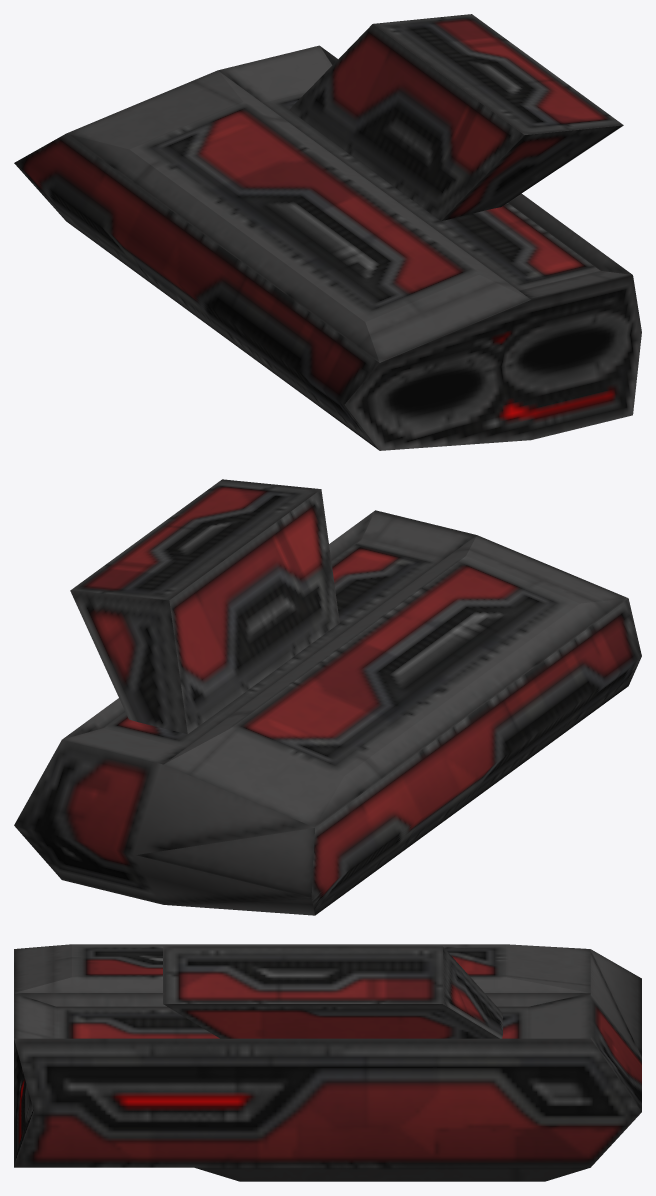
Rendered from BFP_TorpedoBay_LowerRight.FBX.
3 renders of one model, top to bottom at view 1: azimuth 30°, elevation 25°; view 2: azimuth 150°, elevation 25°; view 3: azimuth 270°, elevation 25°, orthographic. The views are drawn at different scales.
Visible parts, largest first — view 1: BFP_TorpedoBay_LowerRight; view 2: BFP_TorpedoBay_LowerRight; view 3: BFP_TorpedoBay_LowerRight.
Boxes of the visible parts, x1,y1,x2,y2 form: BFP_TorpedoBay_LowerRight: (14,14,641,450); BFP_TorpedoBay_LowerRight: (14,479,641,915); BFP_TorpedoBay_LowerRight: (14,944,641,1181).
Size of the model in its own units: 349 by 237 by 591.
1 material, 1 textured.
